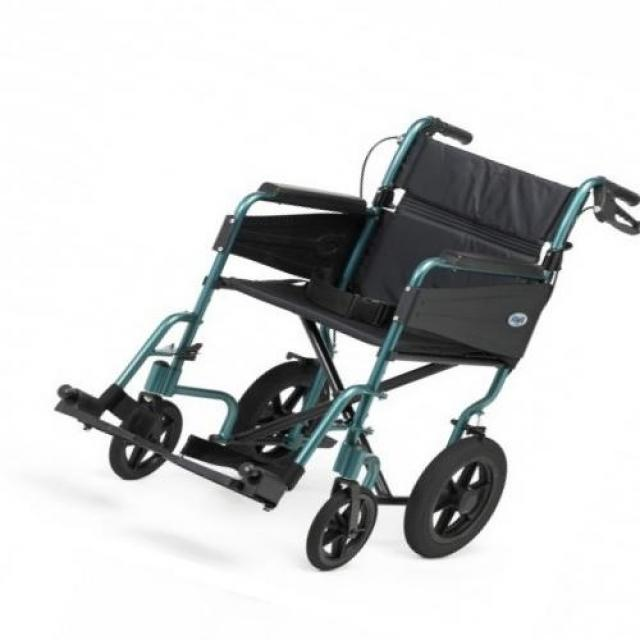wheelchair: (42, 109, 640, 579)
